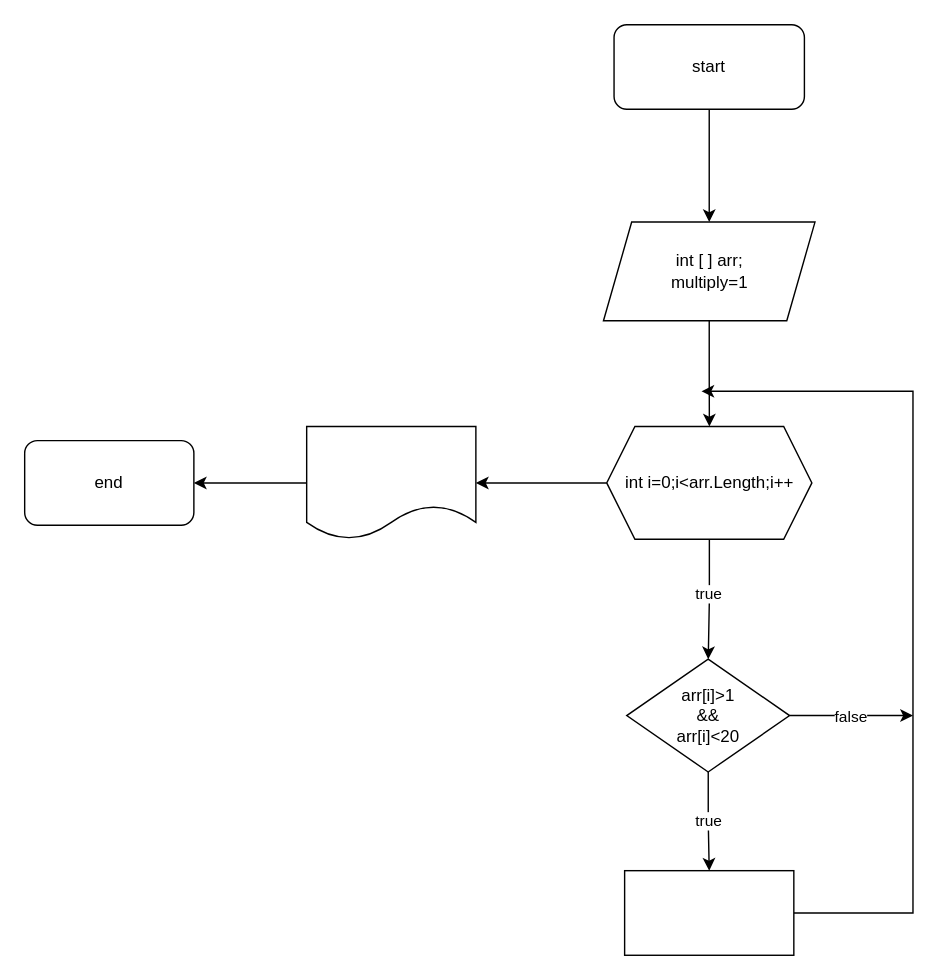
Some shapes in this 949 by 980 pixel diagram are drawn without their labels. Here are the shapes that lost their labels. From the top down, the box of each, then its label:
(305, 425, 476, 539): multiply
(623, 869, 794, 955): multiply*=arr[i]
